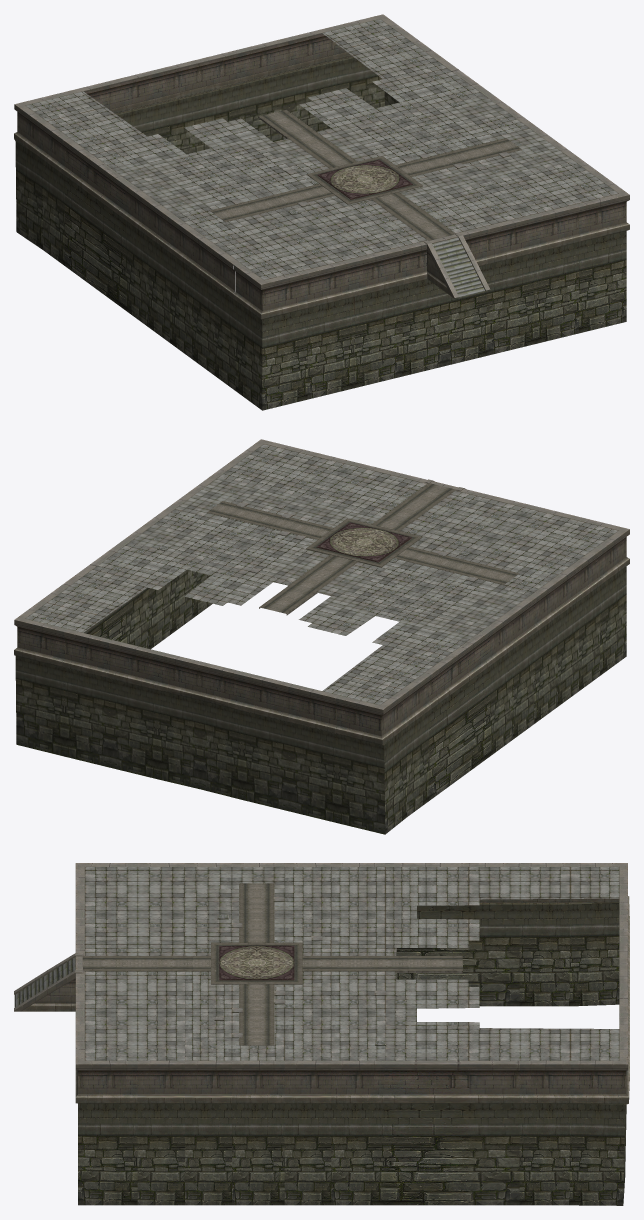
Rendered from QHS_dimian01.FBX.
3 views of the same model, one above another, from view 1: azimuth 30°, elevation 25°; view 2: azimuth 150°, elevation 25°; view 3: azimuth 270°, elevation 25° (orthographic). The views are drawn at different scales.
Visible parts, largest first — view 1: qys_dimian01; view 2: qys_dimian01; view 3: qys_dimian01.
Part boxes in pixels (x1,y1,x2,y2): qys_dimian01: (14,14,629,410); qys_dimian01: (14,439,629,834); qys_dimian01: (14,863,629,1205).
Bounding box in the file's own units: 11285 × 3749 × 14588.
